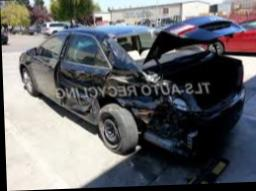Door: (66, 66, 108, 115)
Fender: (137, 91, 176, 141)
